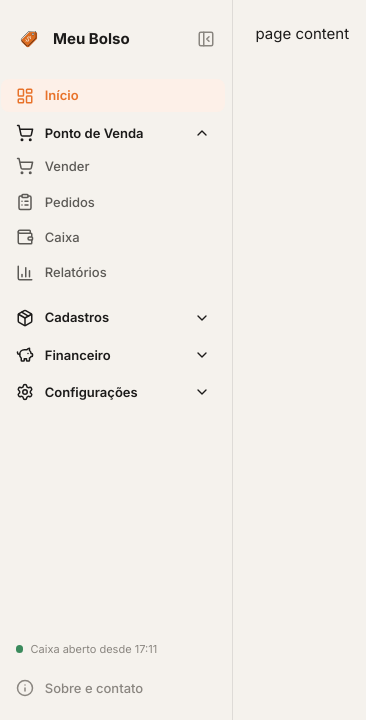
Test case: AppShell sidebar collapse › hides the session hint text when collapsed
Click the button named "Recolher menu". click: coordinates (206, 39)
box: [191, 24, 221, 54]
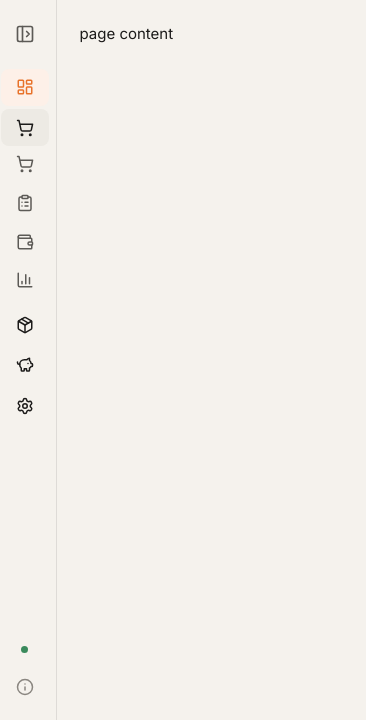
Check: the text "Caixa aberto desde" is gone
